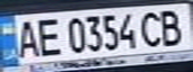0: (63, 14, 87, 54)
3: (81, 12, 106, 53)
4: (118, 10, 142, 49)
5: (100, 11, 121, 52)
A: (9, 17, 42, 59)
B: (154, 6, 190, 47)
C: (136, 8, 169, 48)
E: (33, 16, 63, 57)
